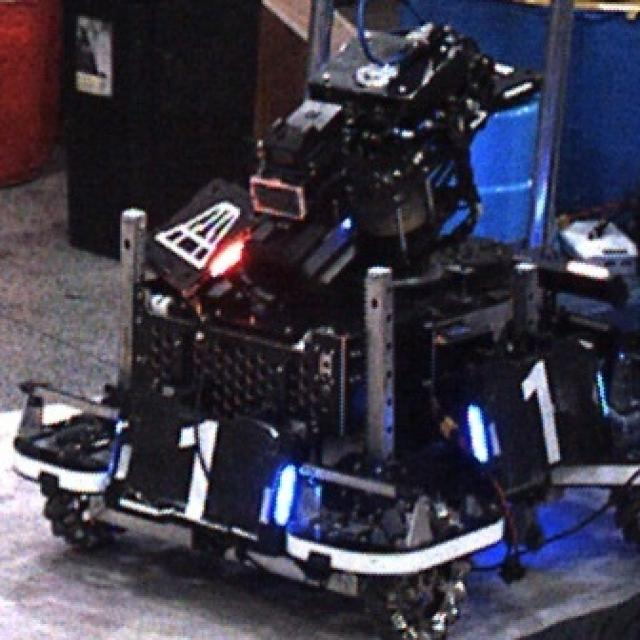B1: (466, 357, 610, 466)
